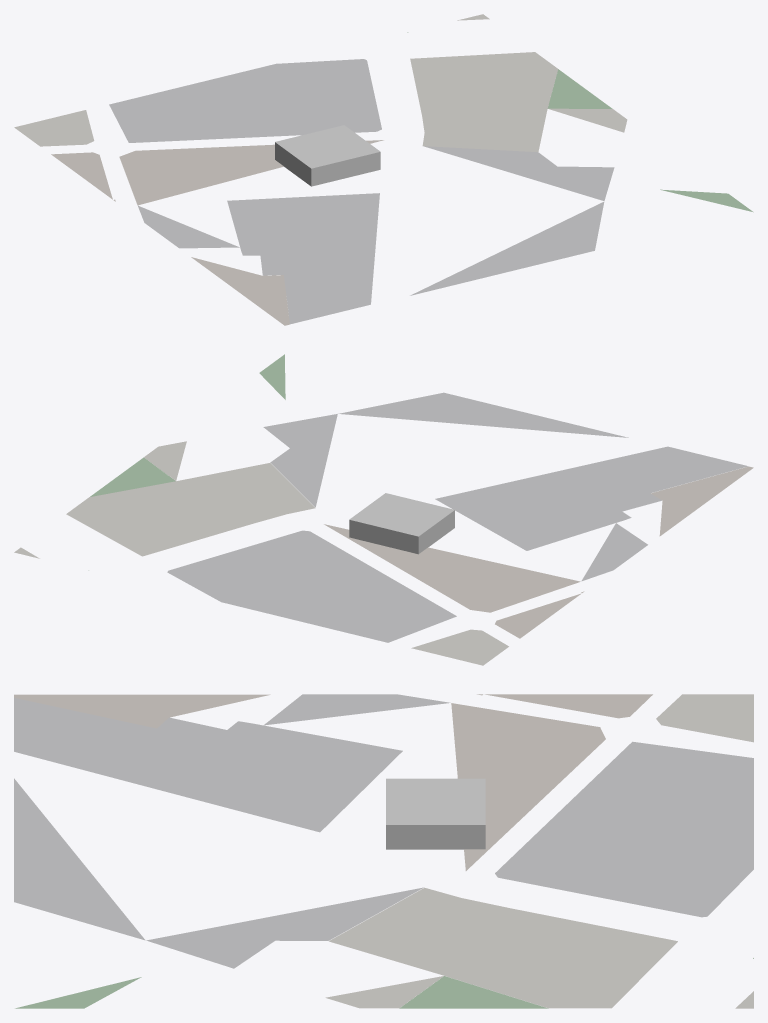
The model's file is 109_113_mid.glb.
3 views of the same model, one above another, from view 1: azimuth 30°, elevation 25°; view 2: azimuth 150°, elevation 25°; view 3: azimuth 270°, elevation 25° (orthographic). The views are drawn at different scales.
Bounding box in the file's own units: 500 × 19.11 × 500.
